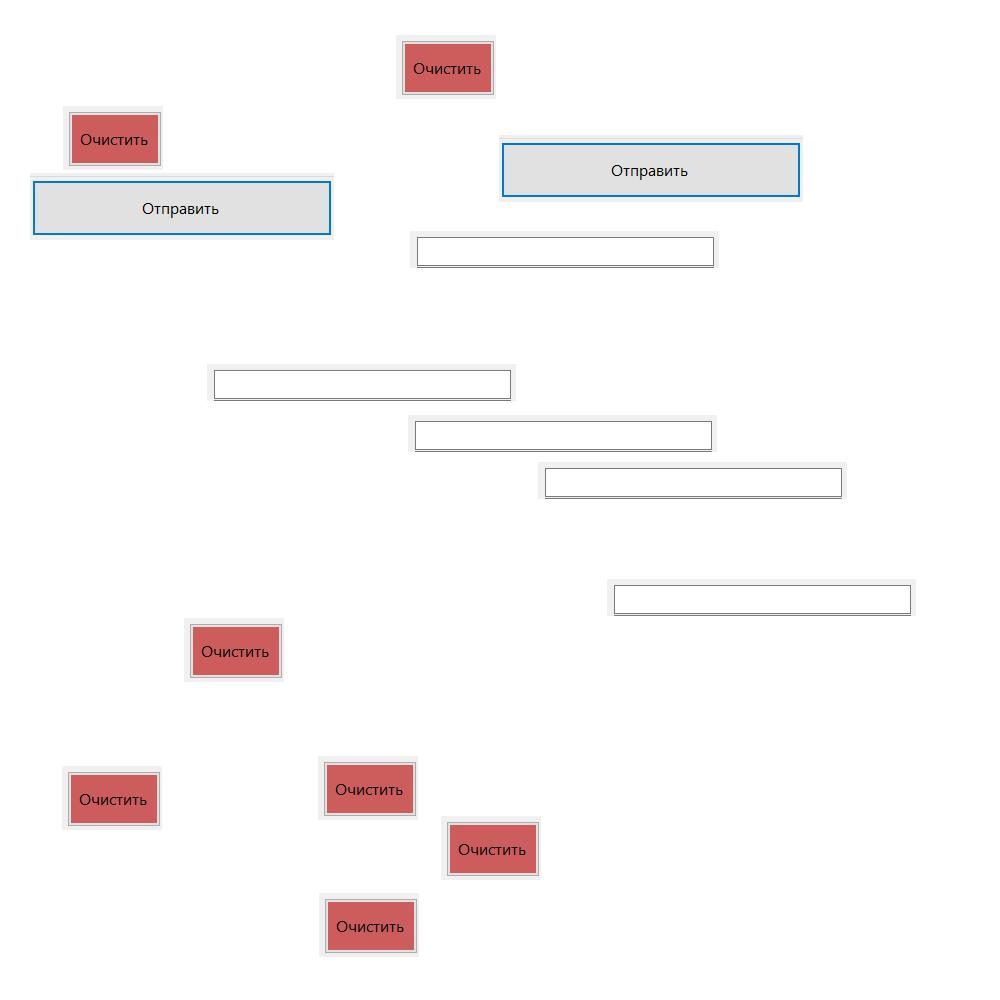Button: (499, 135, 803, 202), (30, 173, 334, 240), (62, 766, 162, 830), (441, 816, 541, 880), (63, 106, 163, 170), (396, 35, 496, 99), (184, 618, 284, 682), (319, 893, 419, 957), (318, 756, 418, 820)
EditText-: (408, 415, 717, 452), (607, 579, 916, 616), (207, 364, 516, 401), (538, 462, 847, 499), (410, 231, 719, 268)
